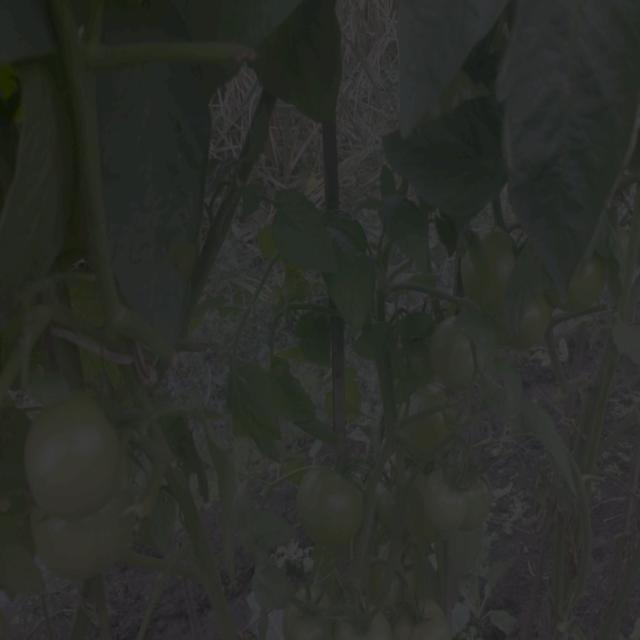tomato: (27, 394, 133, 509), (32, 505, 127, 578), (297, 461, 367, 550), (435, 304, 497, 384), (423, 475, 489, 532), (469, 222, 506, 293), (390, 604, 460, 640), (281, 596, 330, 640), (505, 309, 556, 350), (575, 258, 616, 301), (339, 607, 388, 640)
